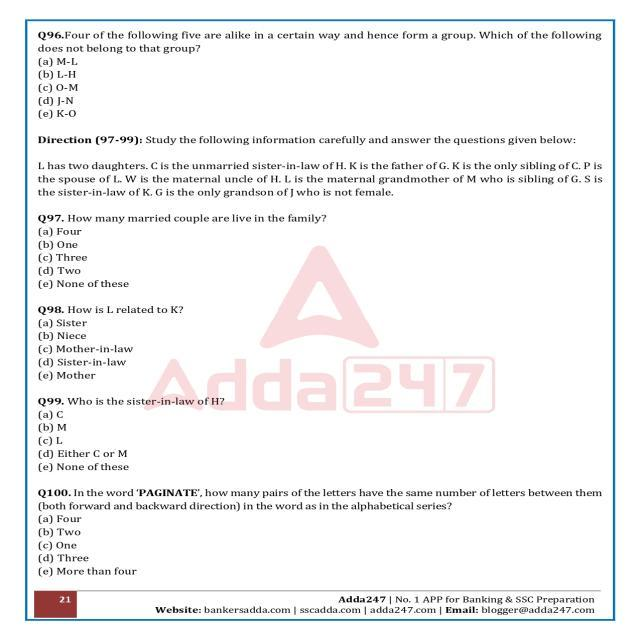Answer_Block: (33, 56, 612, 130), (33, 318, 612, 392), (33, 224, 612, 292), (33, 409, 612, 477), (33, 515, 612, 580)
Instruction: (33, 130, 612, 200)
Question_Answer_Block: (33, 26, 612, 129), (33, 482, 612, 580), (33, 301, 612, 391), (33, 208, 612, 294), (33, 392, 612, 478)
Question_Block: (33, 482, 612, 514), (33, 26, 612, 55), (33, 208, 612, 226), (33, 392, 612, 407), (33, 301, 612, 315)
Question_Paper_Area: (33, 40, 612, 594)
